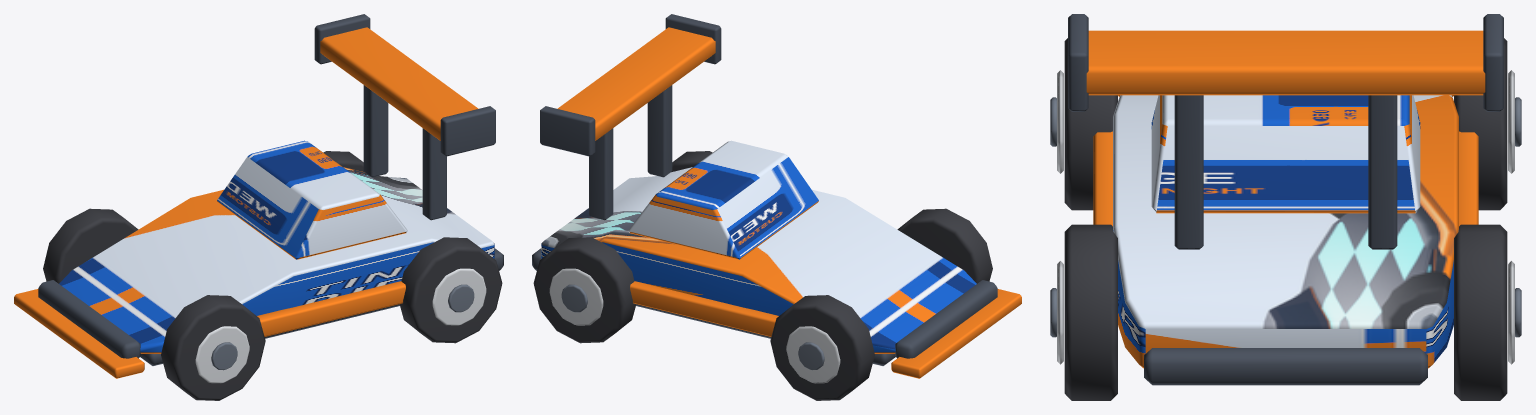
3 renders of one model, left to right at view 1: azimuth 30°, elevation 25°; view 2: azimuth 150°, elevation 25°; view 3: azimuth 270°, elevation 25°, orthographic. The views are drawn at different scales.
Parts seen in each view (by area): view 1: TC-02_connected_shell, TC-02_cabin, rear airfoil, Tire, Tire.002, Tire.001, custom side guard, custom chin, front bumper, wing endplate, wing support.001, wing support (+7 smaller); view 2: TC-02_connected_shell, TC-02_cabin, rear airfoil, Tire.001, Tire.003, Tire, custom side guard.001, custom chin, front bumper, wing endplate.001, wing support, wing support.001 (+7 smaller); view 3: TC-02_connected_shell, rear airfoil, TC-02_cabin, rear bumper, Tire.002, Tire.003, wing support, wing support.001, Tire, Tire.001, wing endplate, wing endplate.001 (+6 smaller).
Boxes of the visible parts, left/top/right/bottom form: TC-02_connected_shell: left=59, top=167, right=494, bottom=353; TC-02_cabin: left=217, top=140, right=407, bottom=259; rear airfoil: left=320, top=27, right=478, bottom=140; Tire: left=161, top=295, right=265, bottom=400; Tire.002: left=399, top=237, right=502, bottom=343; Tire.001: left=43, top=208, right=138, bottom=283; custom side guard: left=257, top=281, right=405, bottom=336; custom chin: left=14, top=289, right=144, bottom=378; front bumper: left=38, top=280, right=140, bottom=358; wing endplate: left=440, top=106, right=495, bottom=156; wing support.001: left=363, top=85, right=388, bottom=177; wing support: left=422, top=128, right=446, bottom=220; TC-02_connected_shell: left=541, top=167, right=976, bottom=353; TC-02_cabin: left=628, top=140, right=818, bottom=259; rear airfoil: left=557, top=27, right=715, bottom=140; Tire.001: left=770, top=295, right=874, bottom=400; Tire.003: left=533, top=237, right=636, bottom=343; Tire: left=897, top=208, right=992, bottom=283; custom side guard.001: left=630, top=281, right=778, bottom=336; custom chin: left=891, top=289, right=1021, bottom=378; front bumper: left=895, top=280, right=997, bottom=358; wing endplate.001: left=540, top=106, right=595, bottom=156; wing support: left=647, top=85, right=672, bottom=177; wing support.001: left=589, top=128, right=613, bottom=220; TC-02_connected_shell: left=1113, top=95, right=1458, bottom=368; rear airfoil: left=1086, top=30, right=1485, bottom=95; TC-02_cabin: left=1151, top=95, right=1420, bottom=213; rear bumper: left=1144, top=348, right=1427, bottom=385; Tire.002: left=1064, top=224, right=1117, bottom=400; Tire.003: left=1454, top=224, right=1507, bottom=400; wing support: left=1174, top=95, right=1203, bottom=249; wing support.001: left=1368, top=95, right=1397, bottom=249; Tire: left=1064, top=38, right=1117, bottom=210; Tire.001: left=1454, top=38, right=1507, bottom=210; wing endplate: left=1068, top=14, right=1088, bottom=111; wing endplate.001: left=1483, top=14, right=1503, bottom=111.
Bounding box in the file's own units: 369 × 199 × 229.
